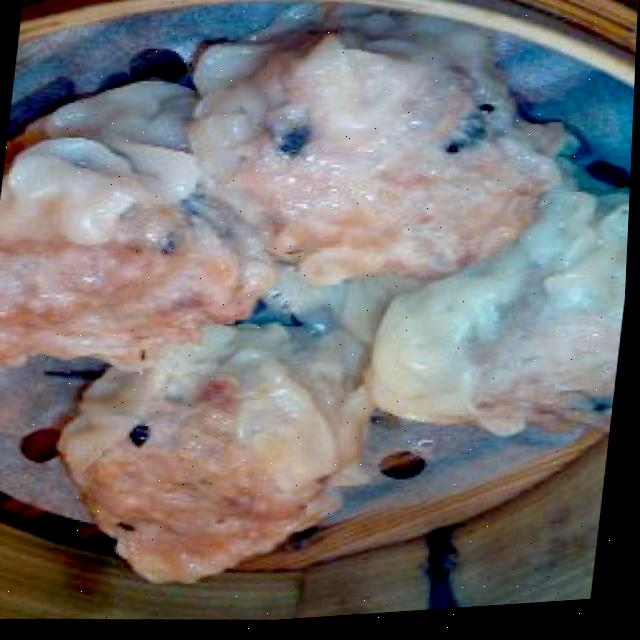带馅早点: (0, 10, 638, 618)
